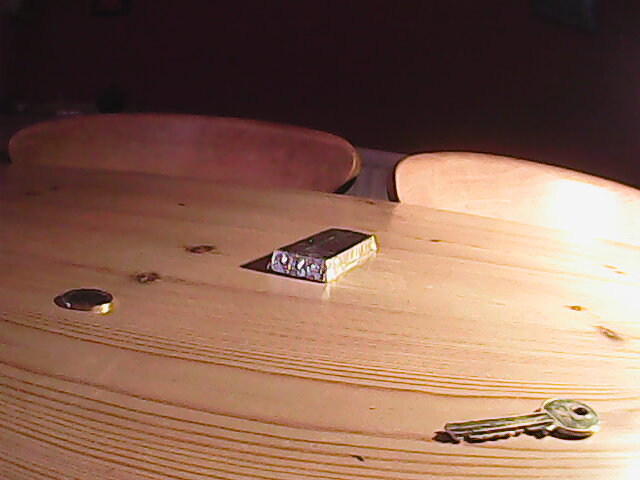Coin: (59, 284, 115, 315)
Foil: (267, 226, 381, 287)
Key: (442, 398, 604, 444)
